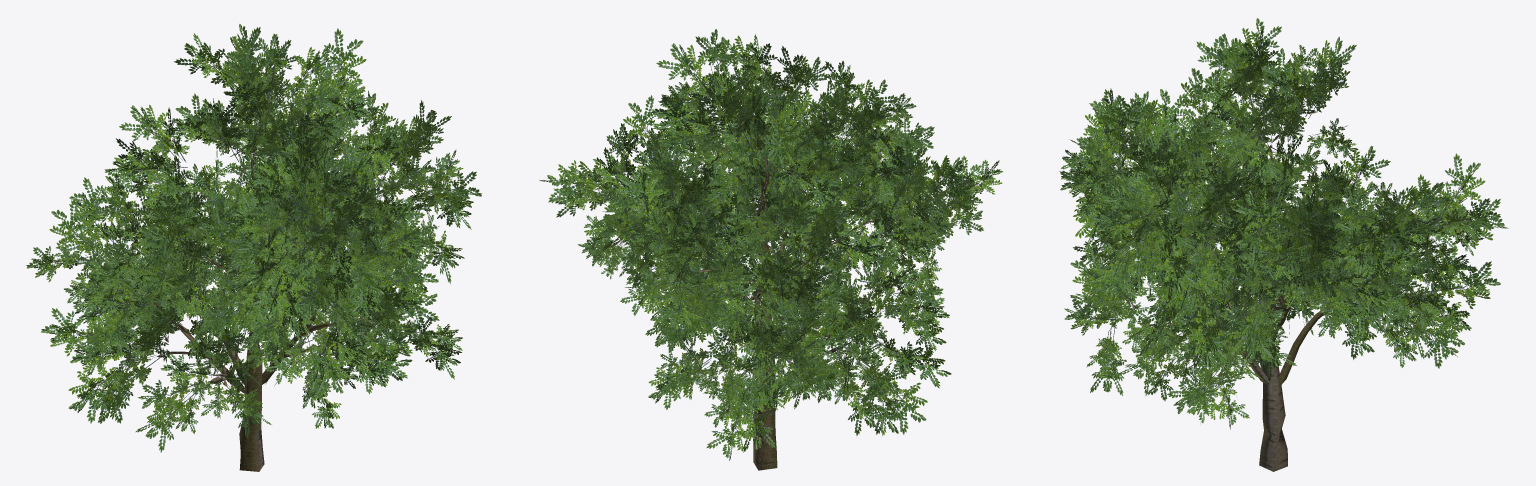
The model's file is large-a.glb.
3 renders of one model, left to right at view 1: azimuth 30°, elevation 25°; view 2: azimuth 150°, elevation 25°; view 3: azimuth 270°, elevation 25°, orthographic. The views are drawn at different scales.
Parts seen in each view (by area): view 1: large-a; view 2: large-a; view 3: large-a.
Part boxes in pixels (box(x1,y1,x2,y2)): large-a: box(26, 24, 482, 471); large-a: box(539, 29, 1002, 470); large-a: box(1059, 18, 1508, 471).
Size of the model in its own units: 9.83 by 10.35 by 9.87.
Materials: 2 (2 with a texture image).
